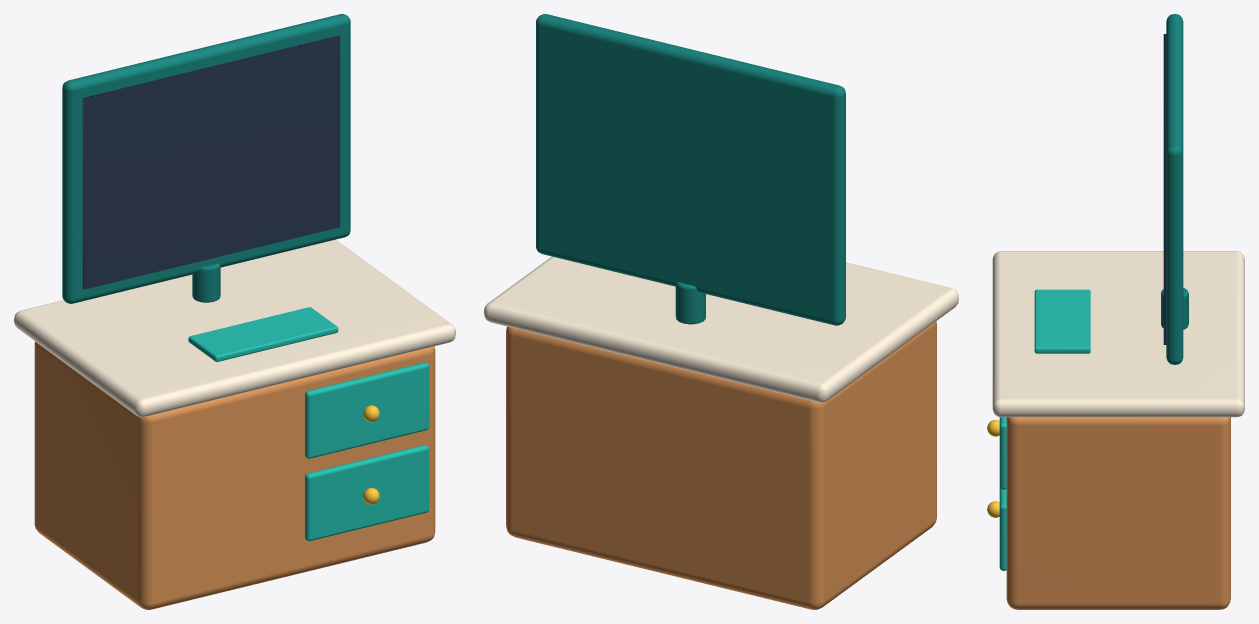
File: ResearchDesk.fbx
3 renders of one model, left to right at view 1: azimuth 30°, elevation 25°; view 2: azimuth 150°, elevation 25°; view 3: azimuth 270°, elevation 25°, orthographic. The views are drawn at different scales.
Visible parts, largest first — view 1: ResearchDesk mesh; view 2: ResearchDesk mesh; view 3: ResearchDesk mesh.
Boxes of the visible parts, box(x1,y1,x2,y2) form: ResearchDesk mesh: box(14, 14, 455, 609); ResearchDesk mesh: box(484, 14, 958, 609); ResearchDesk mesh: box(987, 14, 1244, 609).
Bounding box in the file's own units: 1.3 × 1.82 × 0.92.
